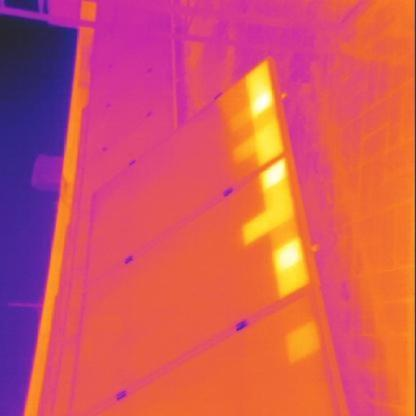anomaly: (233, 160, 297, 249), (273, 226, 311, 303), (225, 126, 295, 162), (247, 54, 275, 125)
